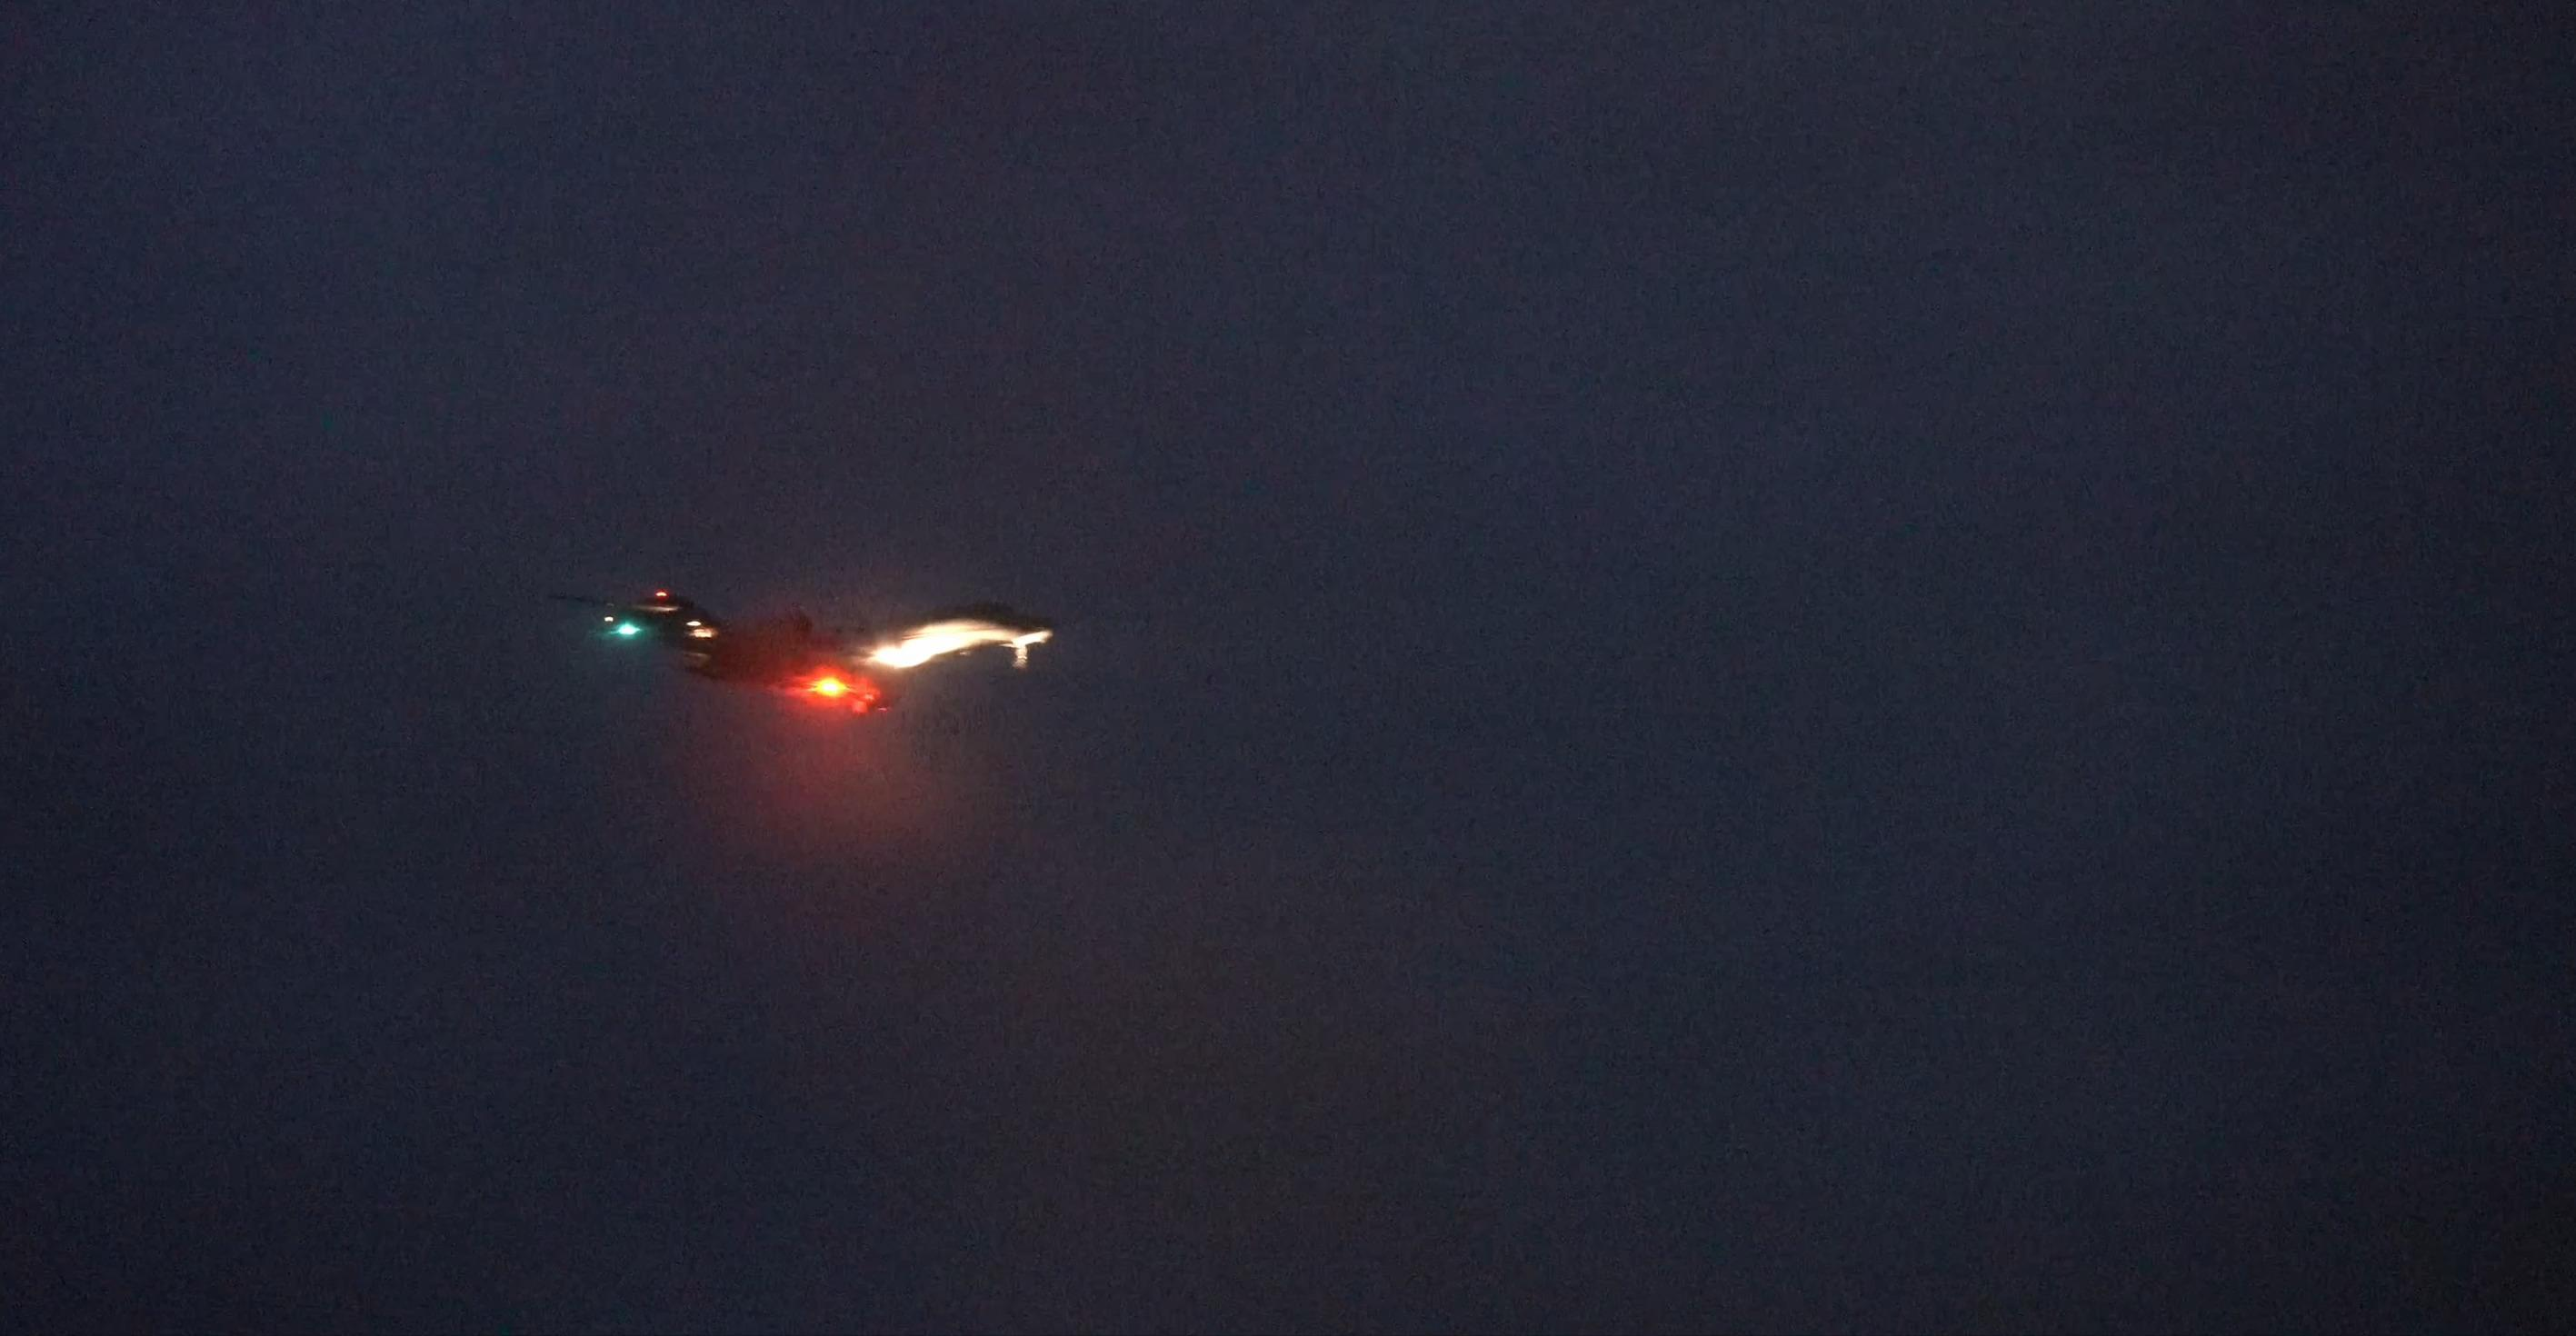Plane: (523, 550, 1104, 767)
